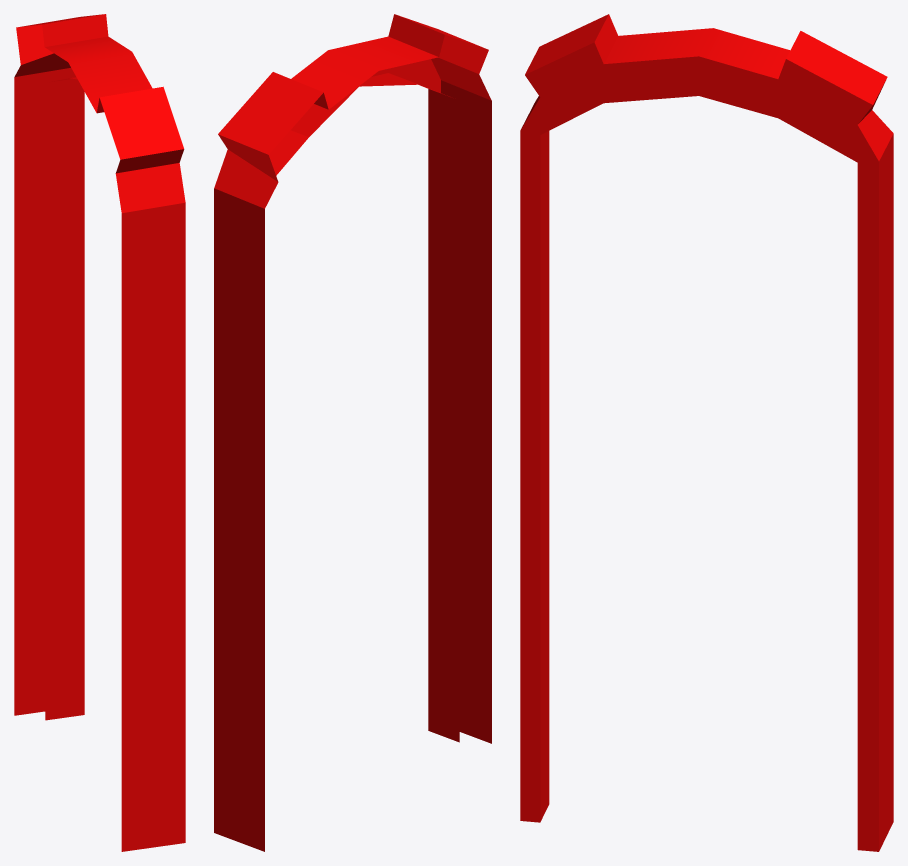
File: WitchShop_DoorFrame.fbx
3 renders of one model, left to right at view 1: azimuth 30°, elevation 25°; view 2: azimuth 150°, elevation 25°; view 3: azimuth 270°, elevation 25°, orthographic. The views are drawn at different scales.
Visible parts, largest first — view 1: DoorFrame; view 2: DoorFrame; view 3: DoorFrame.
Part boxes in pixels (box(x1,y1,x2,y2)): DoorFrame: box(14, 14, 185, 851); DoorFrame: box(214, 14, 491, 851); DoorFrame: box(520, 14, 893, 851).
Size of the model in its own units: 37.31 by 223 by 96.25.
